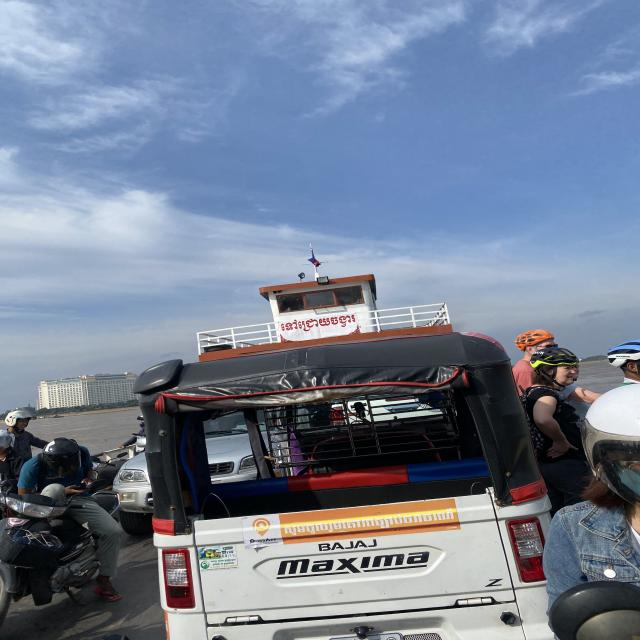Yolov11kh: (279, 504, 459, 541), (277, 311, 360, 336)
